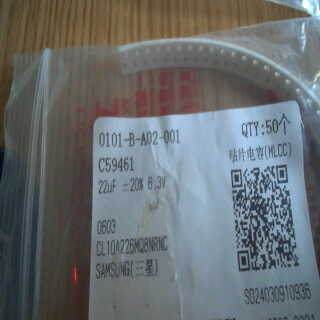22uF: (95, 174, 118, 197)
